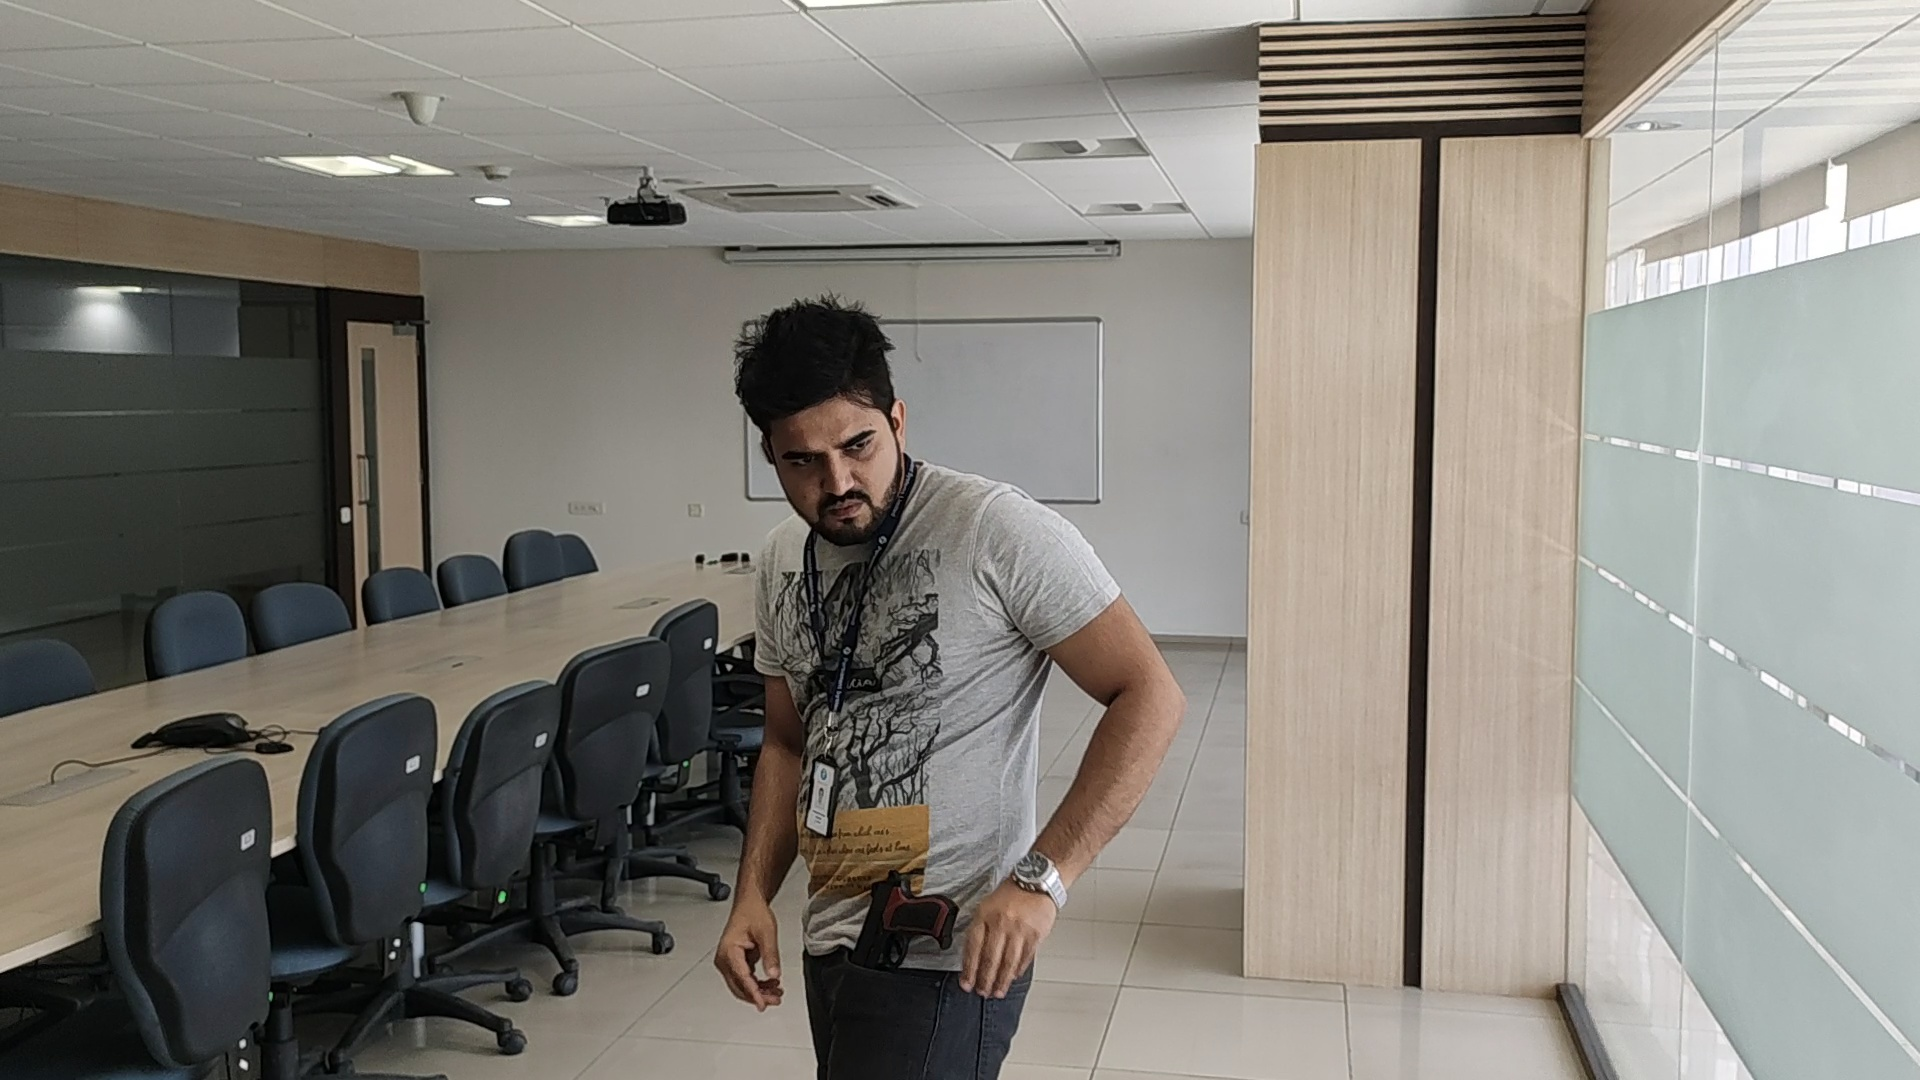gun: (853, 870, 959, 971)
